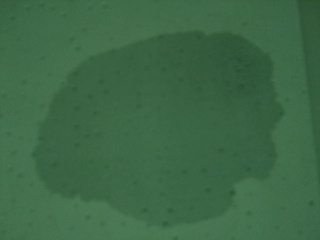Water_detected: (63, 61, 226, 201)
